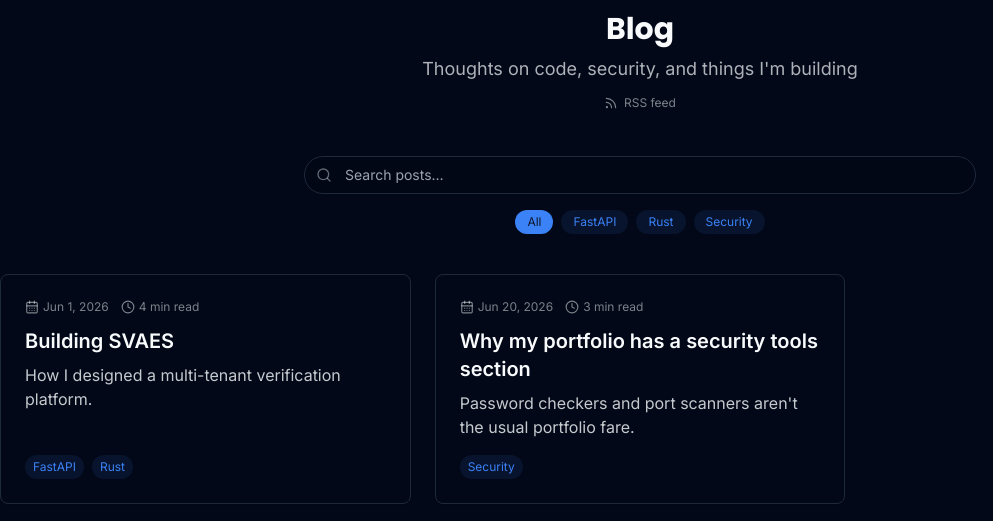
Test: BlogSection › filters posts by tag when a tag chip is clicked
Click the 1st button "Security" at (729, 222), box [694,210,765,234]
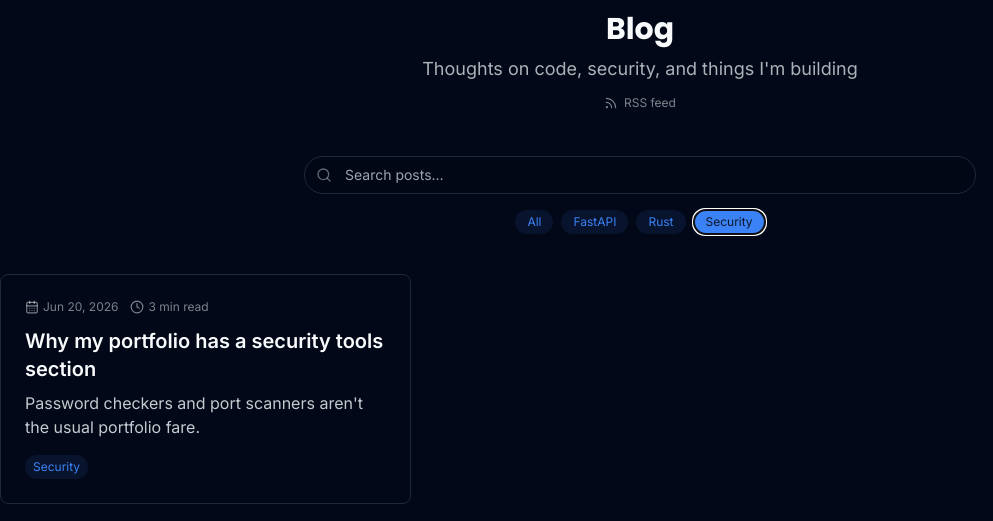
Expected: the heading "Why my portfolio has a security tools section" is shown, [25,327,386,383]
Expected: the link "Building SVAES" is gone
